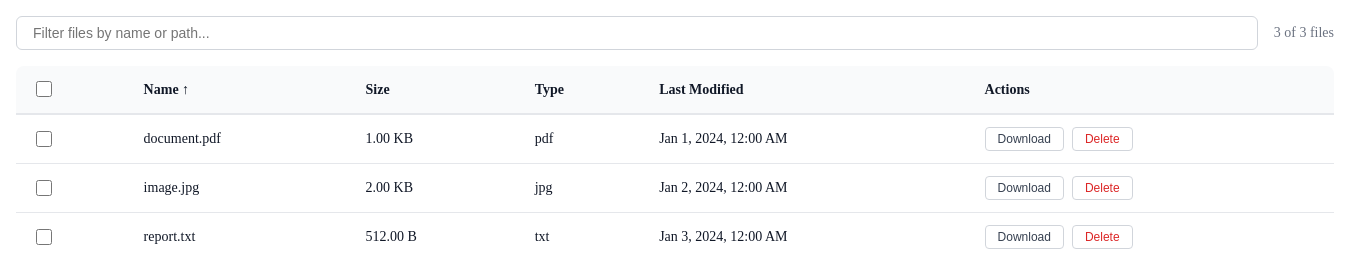
Test: FileList › filtering › should show empty state when filter matches nothing
The width and height of the screenshot is (1351, 266).
Type "nonexistent" into the field with placeholder "Filter files by name or path..." at (637, 33), box x1=16 y1=16 x2=1258 y2=50
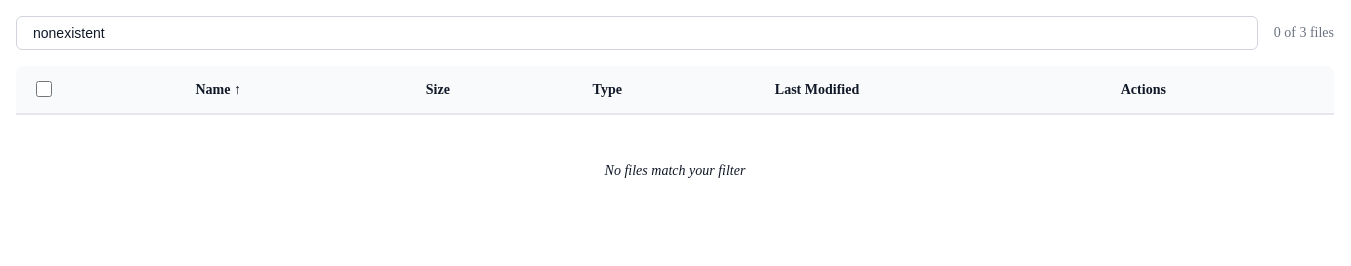
Check: the text "No files match your filter" is shown, box x1=16 y1=114 x2=1334 y2=227
